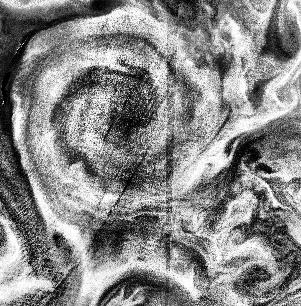AE: (10, 14, 217, 211)
